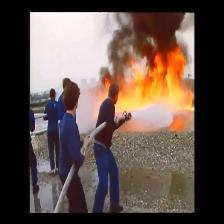fire: (110, 73, 195, 109)
smoke: (121, 8, 185, 48)
